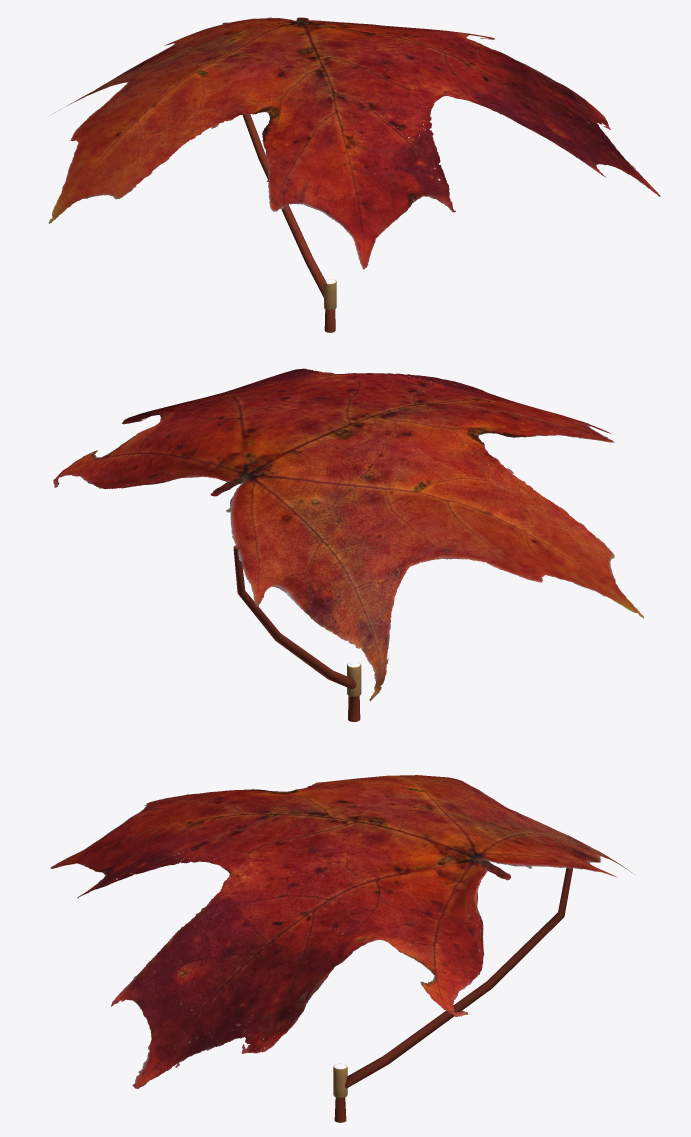
Rendered from glider_maple_leaf.glb.
3 views of the same model, one above another, from view 1: azimuth 30°, elevation 25°; view 2: azimuth 150°, elevation 25°; view 3: azimuth 270°, elevation 25° (orthographic). The views are drawn at different scales.
Parts seen in each view (by area): view 1: glider_maple_leaf; view 2: glider_maple_leaf; view 3: glider_maple_leaf.
Boxes of the visible parts, <box> form: glider_maple_leaf: <box>48,17,660,332</box>; glider_maple_leaf: <box>53,368,643,721</box>; glider_maple_leaf: <box>50,775,634,1122</box>.
Size of the model in its own units: 2.44 by 1.13 by 2.29.
Materials: 2 (2 with a texture image).
